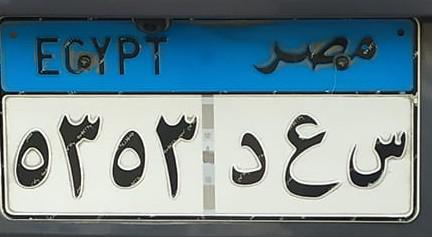3: (55, 105, 103, 201), (159, 106, 199, 197)
5: (11, 127, 55, 195), (105, 127, 149, 190)
د: (226, 130, 270, 185)
س: (346, 122, 408, 191)
ع: (274, 112, 344, 200)
